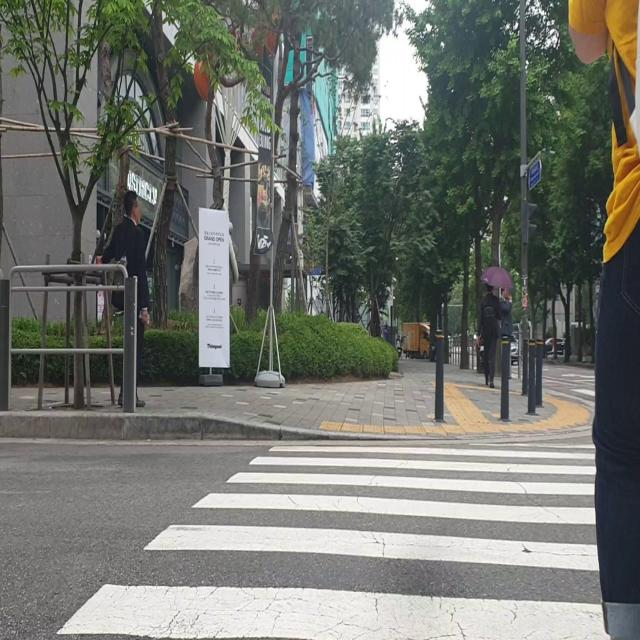횡단보도: (53, 439, 640, 640)
